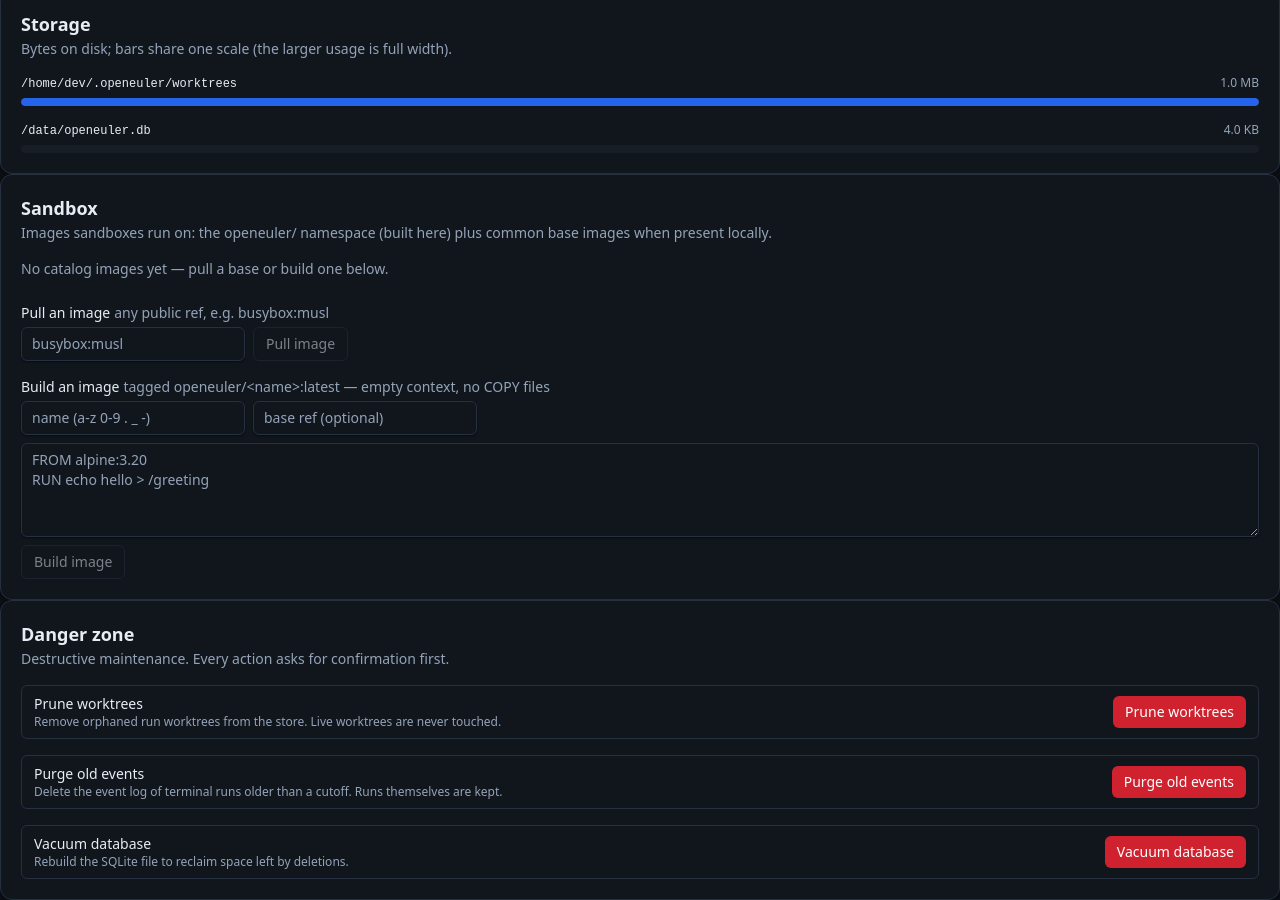
Scenario: danger zone: prune worktrees (#95) › confirms, POSTs the action, toasts counts and refetches settings
The image size is (1280, 900).
(page scrolled)
Click the button "Prune worktrees": point(1180, 712) [1113,696,1246,728]
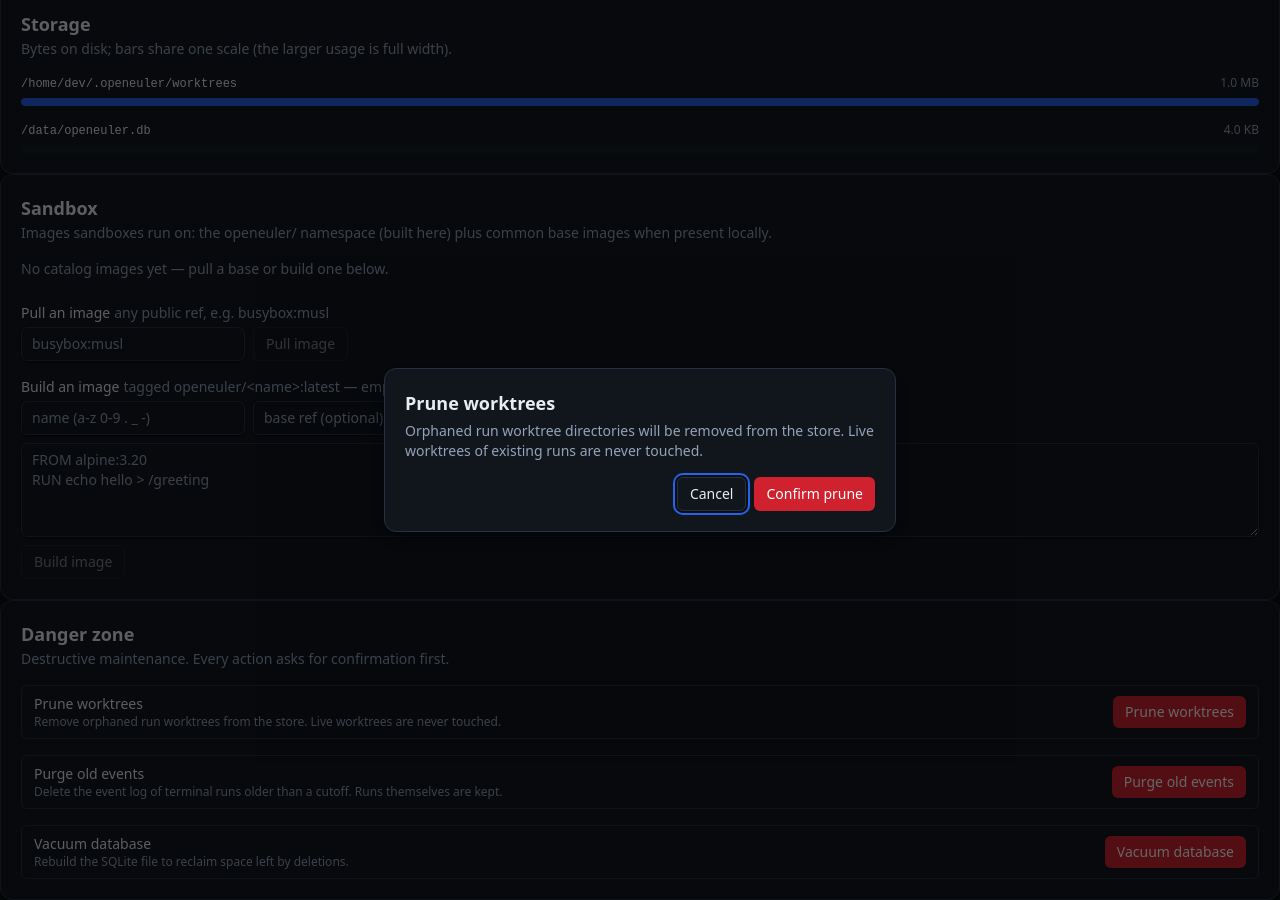
Check: the button "Confirm prune" is shown
Click the button "Confirm prune": point(815, 494) [754,477,875,511]
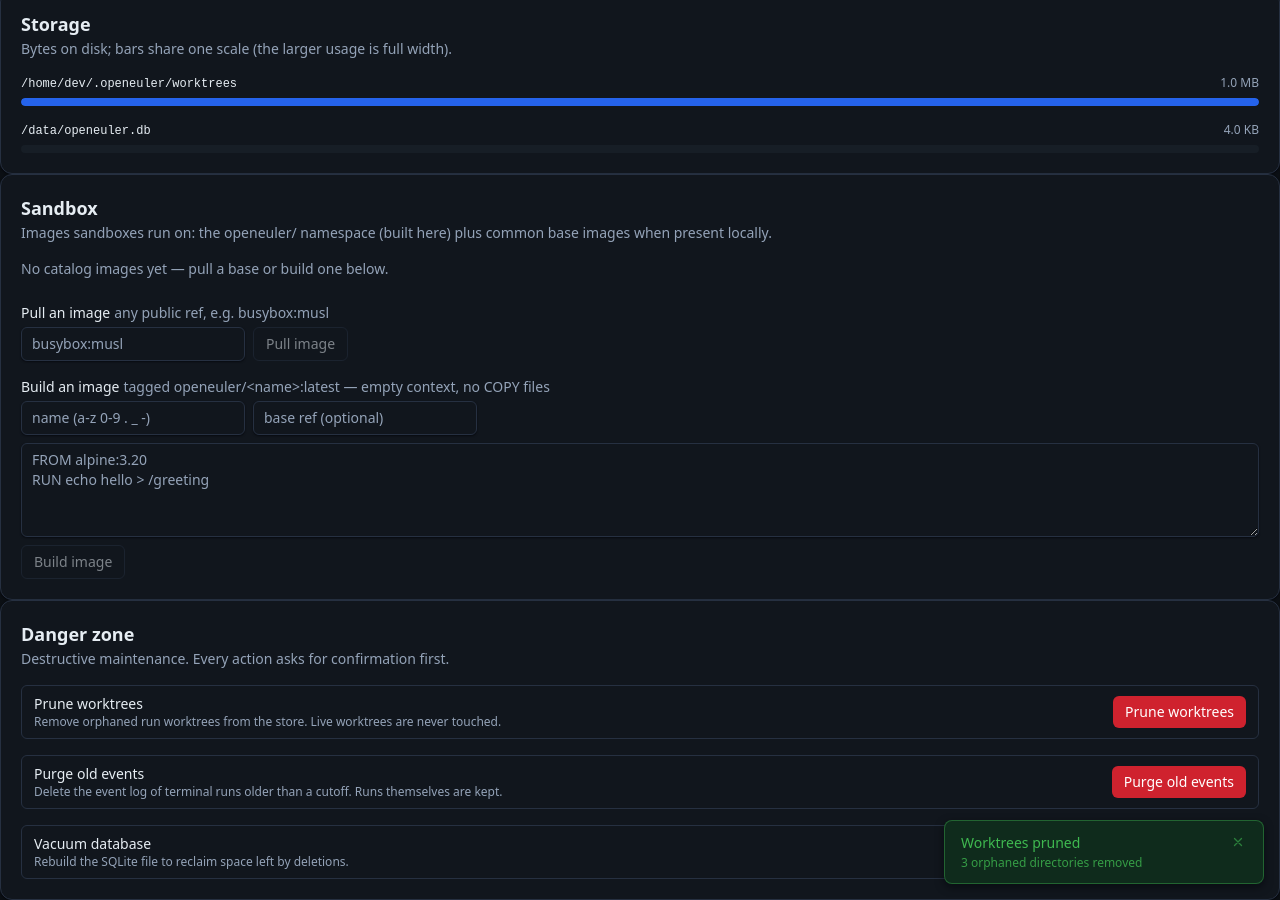
Check: the text "Worktrees pruned" is shown, box [961,833,1080,852]
Check: the text "3 orphaned directories removed" is shown, box [961,855,1142,871]
